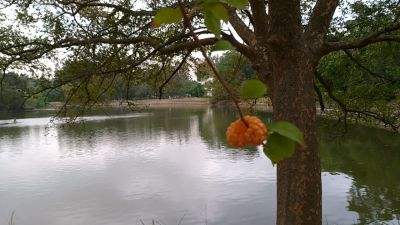eggs: (225, 114, 270, 149)
